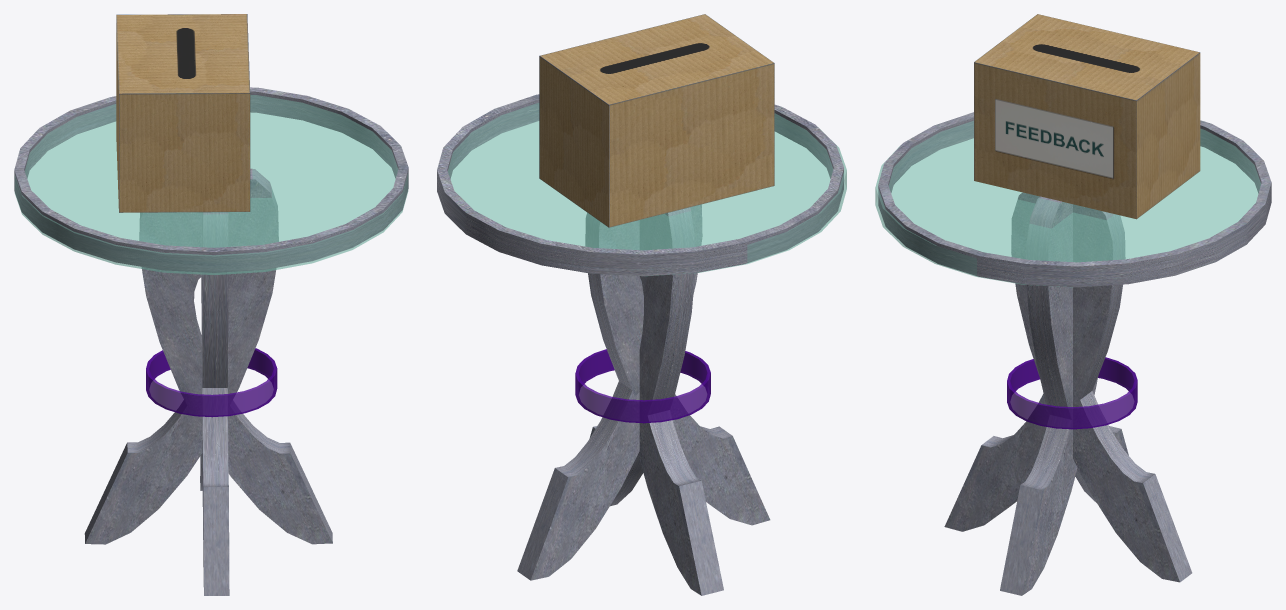
Rendered from Suggestion Box with Course Feedback Survey_101-147-023__a32dafc6-c6ba-4306-87c0-95f1660c8667.dae.
The picture shows the model from 3 angles, left to right: view 1: azimuth 30°, elevation 25°; view 2: azimuth 150°, elevation 25°; view 3: azimuth 270°, elevation 25°; orthographic projection. The views are drawn at different scales.
Parts seen in each view (by area): view 1: Primitive (×6), HighTopGlassTable, Suggestion Box with Course Feedback Survey; view 2: Primitive (×6), Suggestion Box with Course Feedback Survey, HighTopGlassTable; view 3: Primitive (×6), Suggestion Box with Course Feedback Survey, HighTopGlassTable.
Part boxes in pixels (box(x1,y1,x2,y2)): Primitive (×6): box(14, 87, 408, 595); HighTopGlassTable: box(14, 95, 408, 274); Suggestion Box with Course Feedback Survey: box(116, 14, 250, 212); Primitive (×6): box(437, 94, 843, 595); Suggestion Box with Course Feedback Survey: box(539, 14, 774, 227); HighTopGlassTable: box(448, 103, 846, 276); Primitive (×6): box(878, 112, 1271, 595); Suggestion Box with Course Feedback Survey: box(974, 14, 1200, 219); HighTopGlassTable: box(875, 121, 1260, 287).
Bounding box in the file's own units: 1.51 × 1.51 × 2.03.
